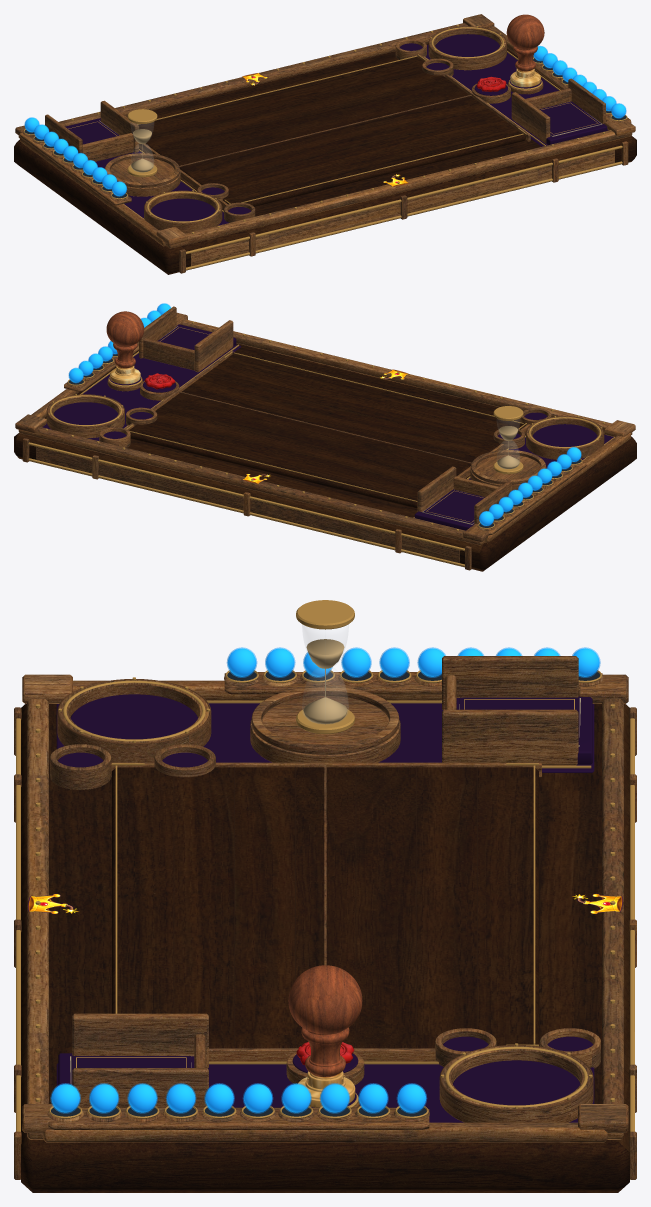
File: RoyalCouncil.glb
3 renders of one model, top to bottom at view 1: azimuth 30°, elevation 25°; view 2: azimuth 150°, elevation 25°; view 3: azimuth 270°, elevation 25°, orthographic. The views are drawn at different scales.
Visible parts, largest first — view 1: RC.Static.Wood.Rail, RC.Surface.Replaceable, RC.Static.Walnut.Export, RC.Static.Base.Liner, RC.Static.Gold.Highlight, RC.Prop.Stamper, RC.Static.Wood.Seam, RC.P0.Pile.Top, RC.Prop.Hourglass.Glass, RC.P1.Pile.Top, RC.Prop.Hourglass, RC.Static.Mana.Socket.Obsidian (+1 smaller); view 2: RC.Static.Wood.Rail, RC.Surface.Replaceable, RC.Static.Walnut.Export, RC.Static.Base.Liner, RC.Static.Gold.Highlight, RC.Prop.Stamper, RC.Static.Wood.Seam, RC.P1.Pile.Top, RC.Prop.Hourglass.Glass, RC.P0.Pile.Top, RC.Prop.Hourglass, RC.Static.Mana.Socket.Obsidian (+1 smaller); view 3: RC.Surface.Replaceable, RC.Static.Wood.Rail, RC.Static.Walnut.Export, RC.Static.Base.Liner, RC.Static.Gold.Highlight, RC.Prop.Stamper, RC.Prop.Hourglass.Glass, RC.Static.Mana.Socket.Obsidian, RC.Prop.Hourglass, RC.Static.Wood.Seam, RC.P1.Pile.Top, RC.P0.Pile.Top (+4 smaller).
Part boxes in pixels (bbox=[...]): RC.Static.Wood.Rail: bbox=[15, 14, 635, 273]; RC.Surface.Replaceable: bbox=[138, 57, 525, 206]; RC.Static.Walnut.Export: bbox=[14, 43, 636, 274]; RC.Static.Base.Liner: bbox=[65, 34, 608, 225]; RC.Static.Gold.Highlight: bbox=[23, 24, 627, 270]; RC.Prop.Stamper: bbox=[506, 14, 544, 87]; RC.Static.Wood.Seam: bbox=[152, 69, 509, 192]; RC.P0.Pile.Top: bbox=[539, 101, 601, 135]; RC.Prop.Hourglass.Glass: bbox=[131, 122, 153, 171]; RC.P1.Pile.Top: bbox=[67, 120, 118, 144]; RC.Prop.Hourglass: bbox=[127, 109, 157, 177]; RC.Static.Mana.Socket.Obsidian: bbox=[24, 58, 626, 198]; RC.Static.Wood.Rail: bbox=[15, 306, 635, 570]; RC.Surface.Replaceable: bbox=[129, 353, 524, 508]; RC.Static.Walnut.Export: bbox=[14, 343, 636, 571]; RC.Static.Base.Liner: bbox=[42, 324, 613, 530]; RC.Static.Gold.Highlight: bbox=[28, 321, 614, 566]; RC.Prop.Stamper: bbox=[106, 311, 144, 384]; RC.Static.Wood.Seam: bbox=[151, 364, 494, 488]; RC.P1.Pile.Top: bbox=[423, 489, 484, 523]; RC.Prop.Hourglass.Glass: bbox=[497, 419, 519, 468]; RC.P0.Pile.Top: bbox=[158, 326, 209, 349]; RC.Prop.Hourglass: bbox=[493, 406, 523, 474]; RC.Static.Mana.Socket.Obsidian: bbox=[68, 354, 581, 527]; RC.Surface.Replaceable: bbox=[112, 767, 538, 1048]; RC.Static.Wood.Rail: bbox=[14, 656, 636, 1179]; RC.Static.Walnut.Export: bbox=[21, 704, 629, 1192]; RC.Static.Base.Liner: bbox=[56, 694, 594, 1122]; RC.Static.Gold.Highlight: bbox=[16, 670, 634, 1131]; RC.Prop.Stamper: bbox=[288, 965, 362, 1107]; RC.Prop.Hourglass.Glass: bbox=[302, 625, 348, 723]; RC.Static.Mana.Socket.Obsidian: bbox=[51, 671, 599, 1116]; RC.Prop.Hourglass: bbox=[296, 600, 354, 733]; RC.Static.Wood.Seam: bbox=[173, 766, 477, 1045]; RC.P1.Pile.Top: bbox=[459, 697, 579, 744]; RC.P0.Pile.Top: bbox=[71, 1056, 191, 1085].
Bounding box in the file's own units: 3.6 × 0.7157 × 2.09.
Materials: 15 (4 with a texture image).
